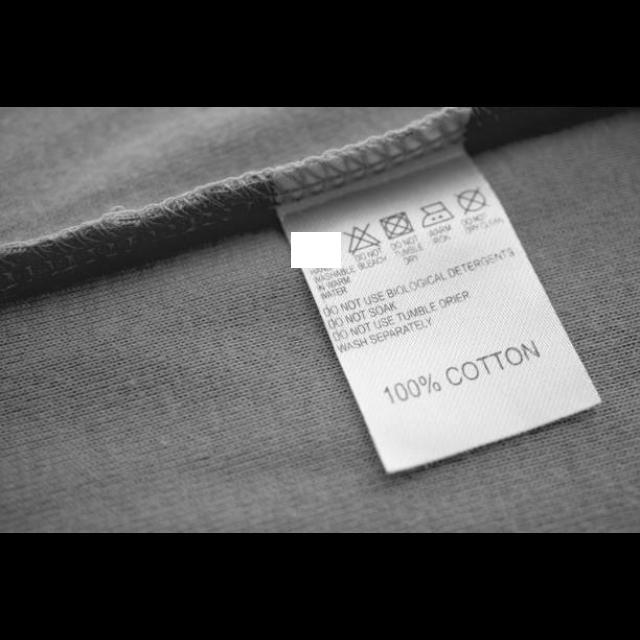DN_bleach: (342, 222, 382, 256)
DN_dry_clean: (452, 185, 492, 215)
DN_tumble_dry: (378, 210, 416, 240)
iron_medium: (418, 200, 456, 230)
